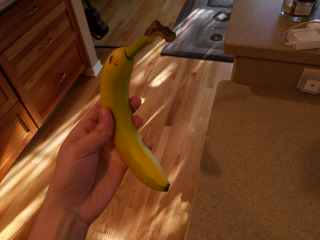banana: (99, 17, 179, 195)
